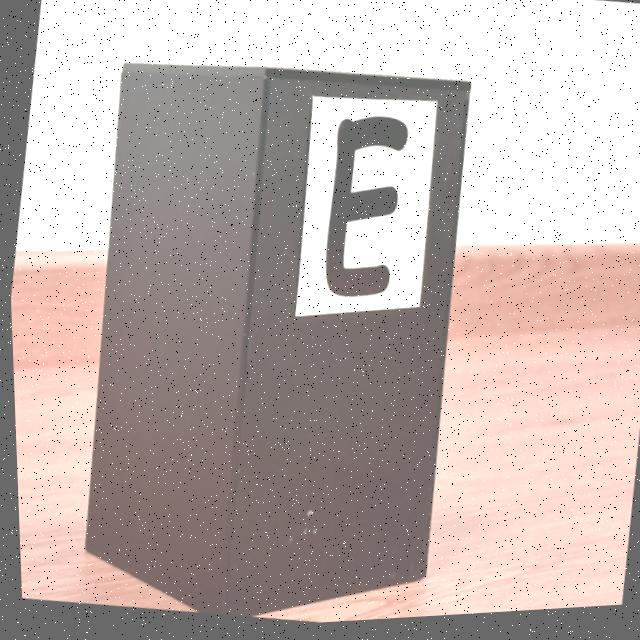E: (323, 121, 407, 302)
